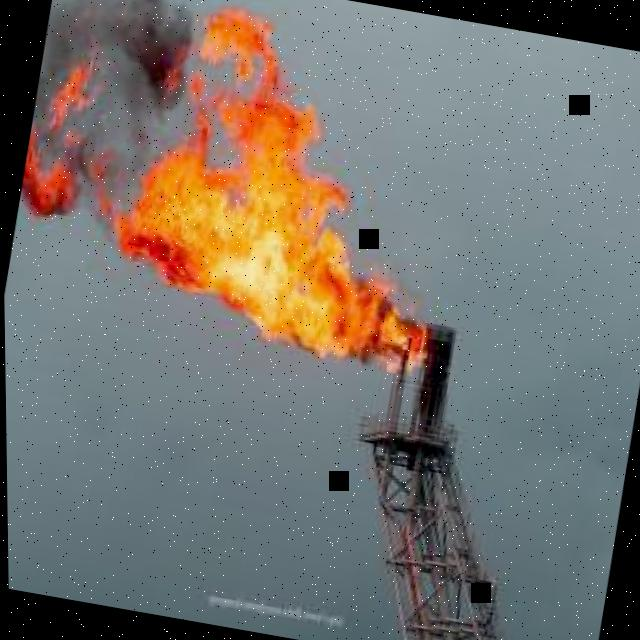fire: (99, 9, 427, 368), (20, 121, 81, 216), (46, 46, 99, 129)
smoke: (32, 0, 193, 249)
